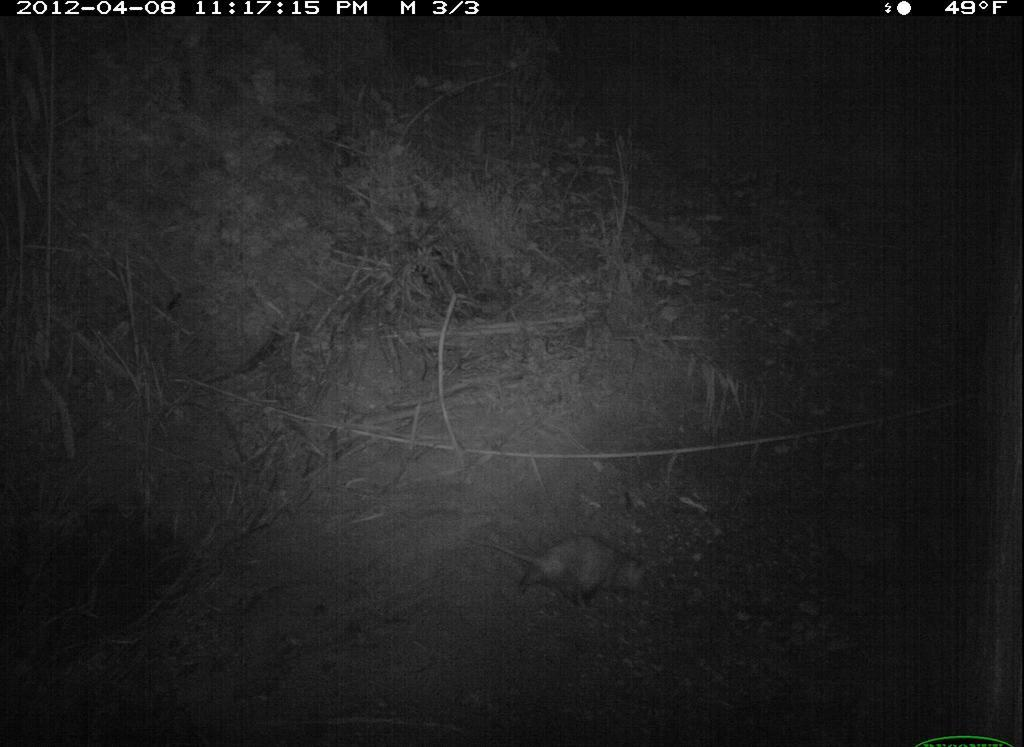opossum: (493, 524, 666, 614)
